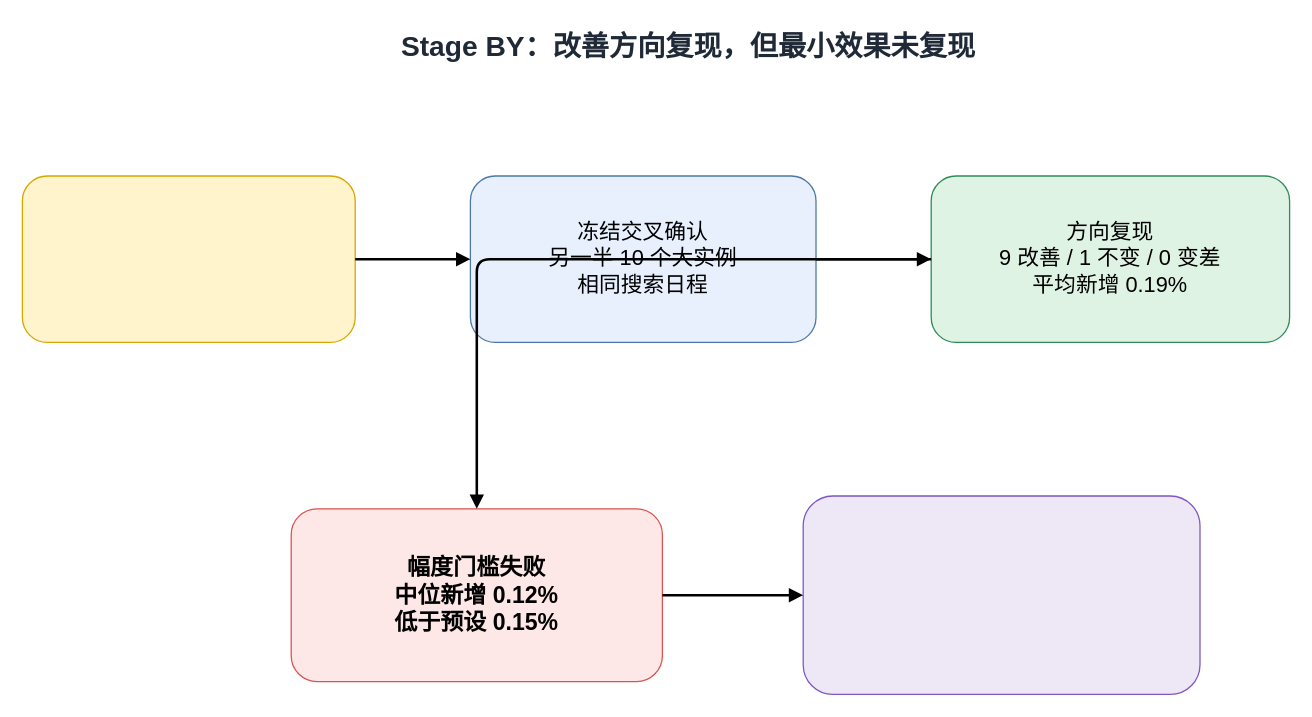
The diagram is 1312 pixels wide and 717 high, and some of its shapes have lost their labels. Each missing label, with the centre of its shape:
"Stage BX 事后信号 >1000 节点 8/8 改善 中位新增 0.28%" belongs at point 188,258.
"下一步 不再调 Or-opt-2 改测连续三节点移动 寻找更大结构收益" belongs at point 1001,594.
